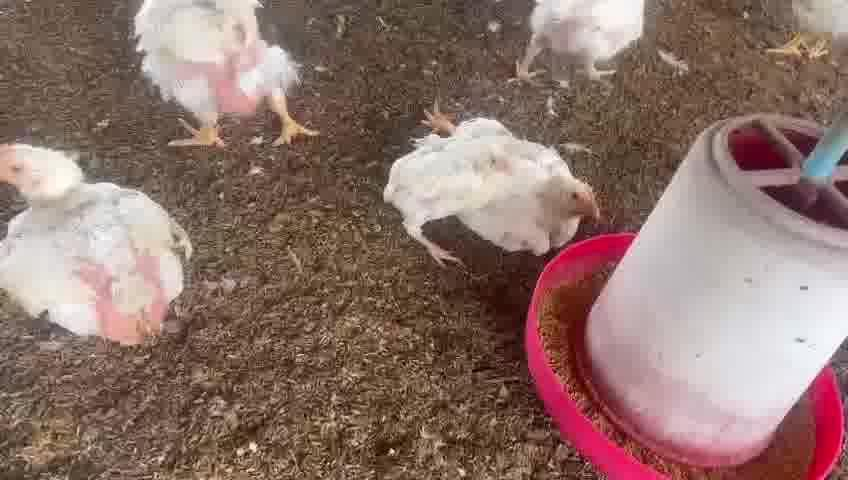AbNormal: (431, 104, 603, 255), (389, 142, 499, 260)
Normal: (0, 136, 185, 354), (121, 0, 320, 179), (523, 0, 664, 96)
